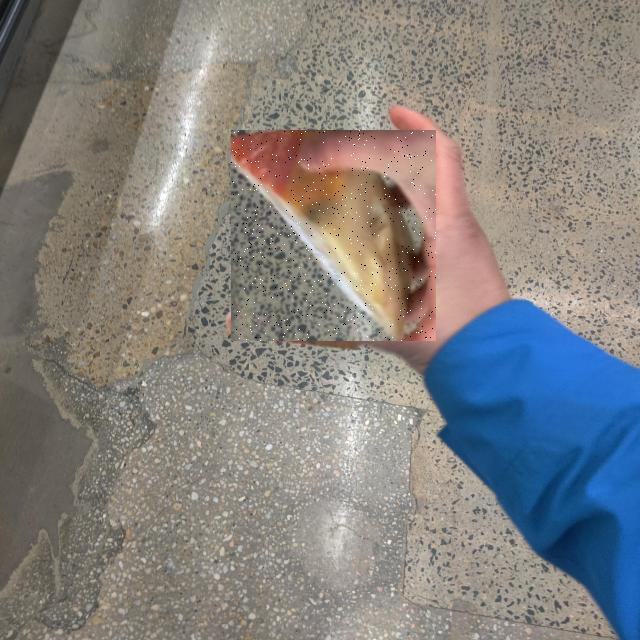Cheese: (231, 130, 436, 341)
